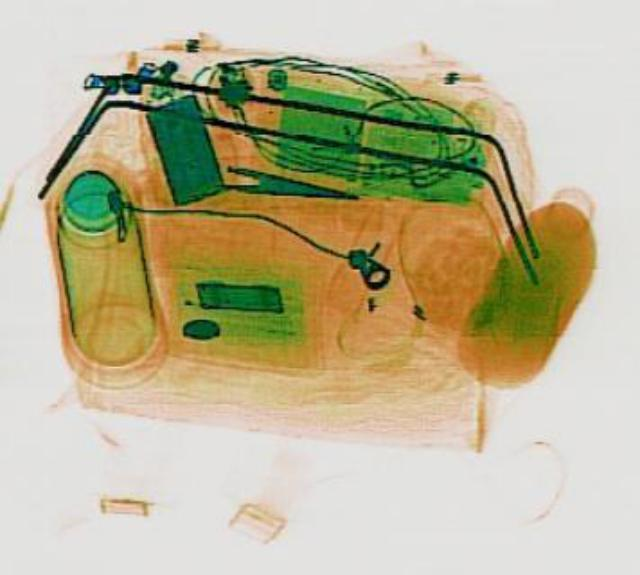Knife: (214, 160, 360, 208)
